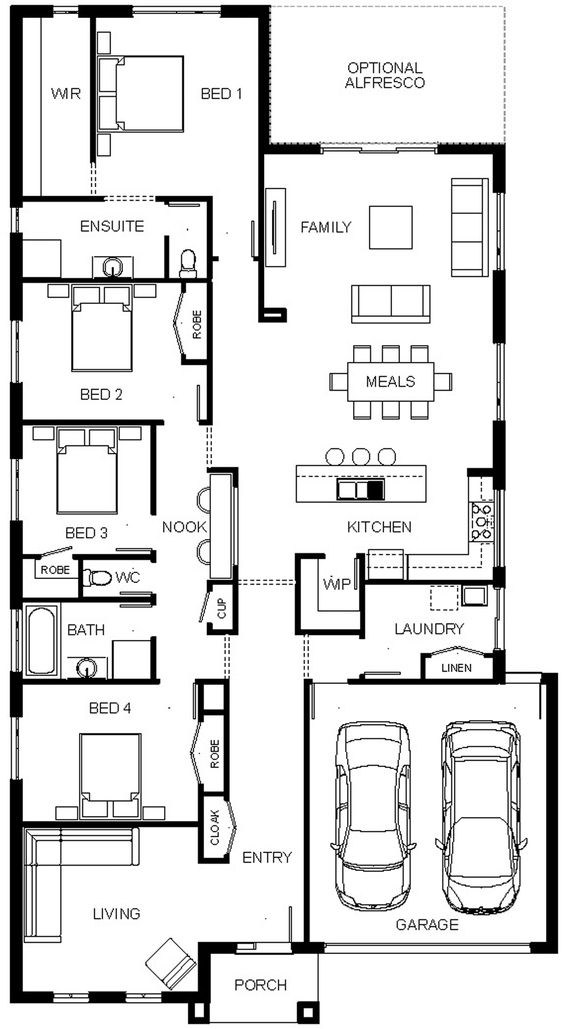room: (90, 7, 270, 201), (10, 277, 213, 425), (10, 678, 204, 828), (11, 419, 157, 559)
window: (321, 942, 533, 954), (321, 142, 439, 156), (132, 6, 220, 18), (494, 192, 506, 272), (494, 340, 506, 420), (493, 489, 505, 569), (11, 717, 25, 780), (9, 609, 23, 672), (10, 458, 24, 521), (10, 321, 24, 384), (493, 586, 505, 653), (51, 991, 91, 1004), (122, 990, 162, 1003), (10, 207, 23, 234)
